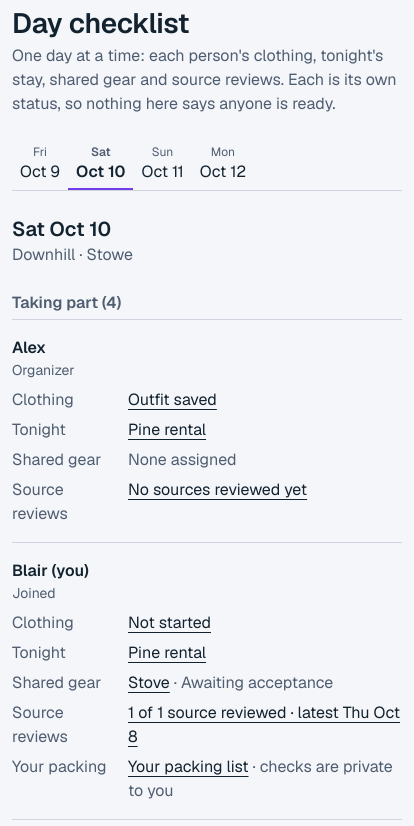
Test: Day checklist page (#336) › changes day without reloading, and names who isn't on the trip that day
Click the button "Fri Oct 9" at (40, 165), box [12,140,68,190]
(page scrolled)
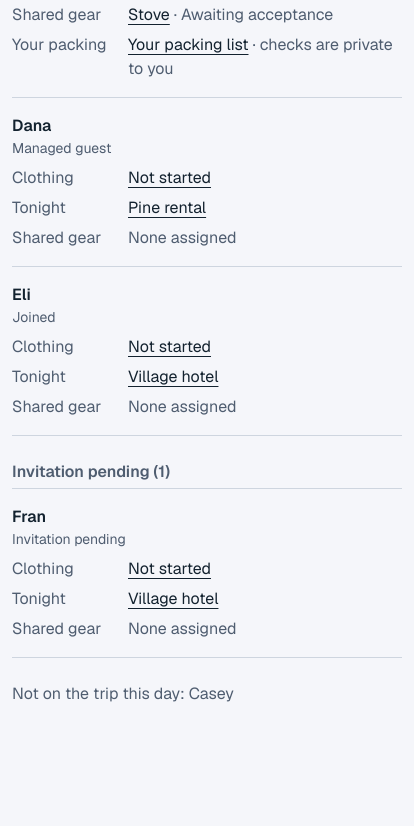
Expected: the text "Not on the trip this day: Casey" is shown, [12,683,234,704]
